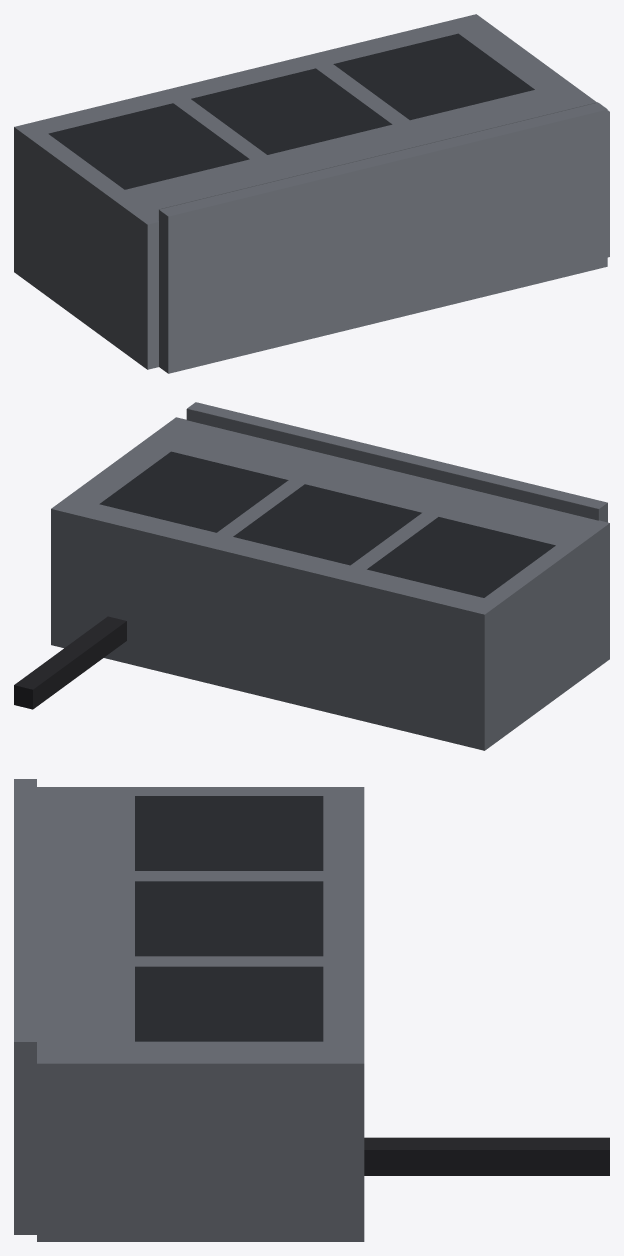
Rendered from bank_wall_standard_c0_S.obj.
The picture shows the model from 3 angles, top to bottom: view 1: azimuth 30°, elevation 25°; view 2: azimuth 150°, elevation 25°; view 3: azimuth 270°, elevation 25°; orthographic projection. The views are drawn at different scales.
Parts seen in each view (by area): view 1: bank_wall_standard_c0_S; view 2: bank_wall_standard_c0_S; view 3: bank_wall_standard_c0_S.
Boxes of the visible parts, bbox=[...] form: bank_wall_standard_c0_S: bbox=[14, 14, 609, 373]; bank_wall_standard_c0_S: bbox=[14, 402, 609, 750]; bank_wall_standard_c0_S: bbox=[14, 779, 609, 1241].
Size of the model in its own units: 0.8 by 0.2635 by 0.728.
Materials: 1 (1 with a texture image).
